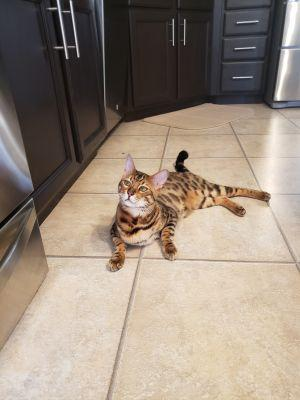bengal: (109, 150, 173, 212)
